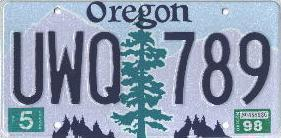placa de veiculo: (0, 1, 280, 138)
